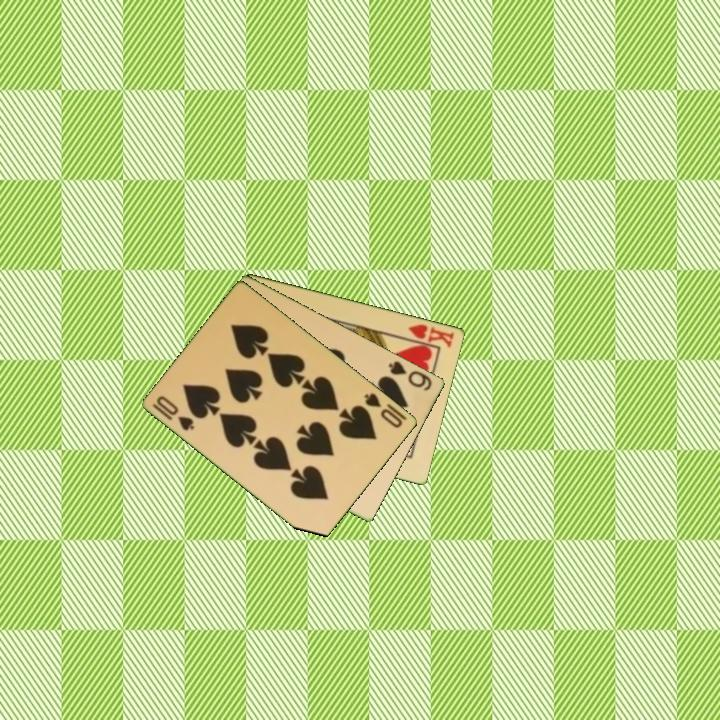10s: (149, 392, 198, 434), (361, 389, 406, 431)
6s: (386, 357, 435, 394)
Kh: (400, 320, 457, 350)
